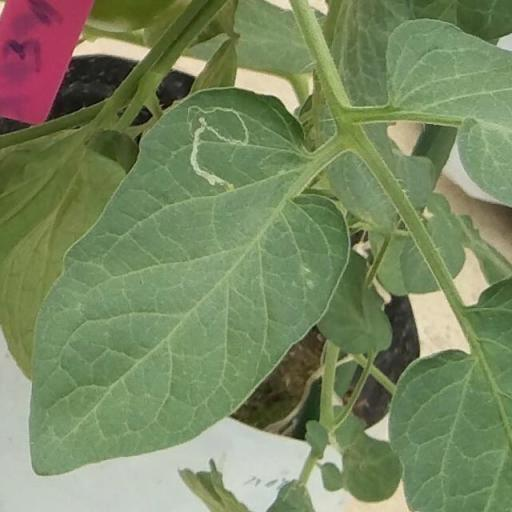disease_tomato: (30, 82, 352, 476)
